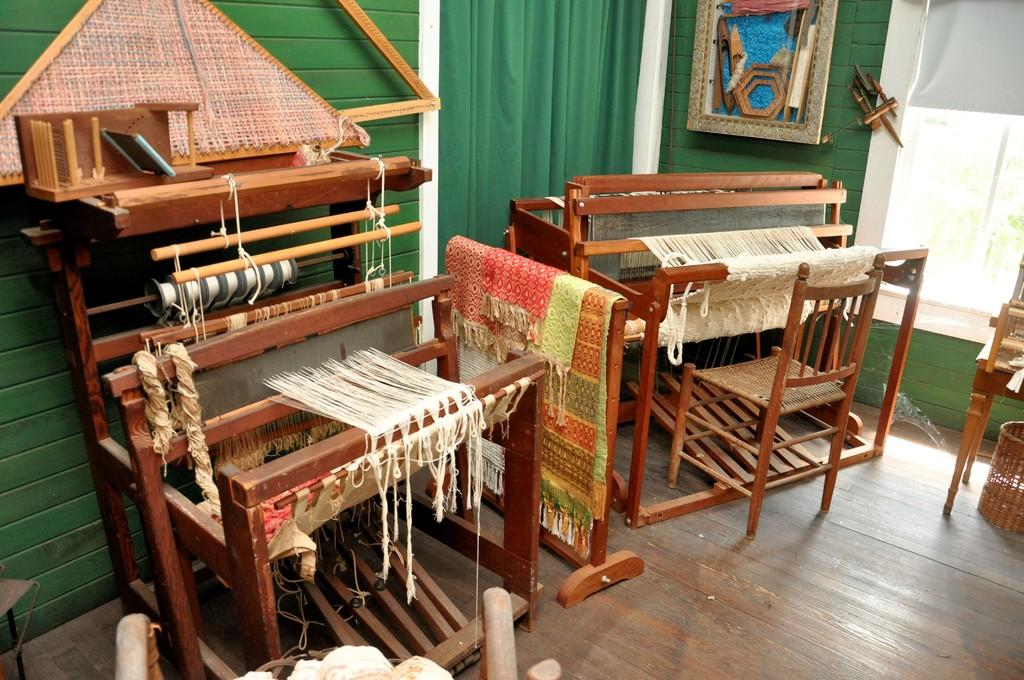Chair: (667, 261, 883, 548)
